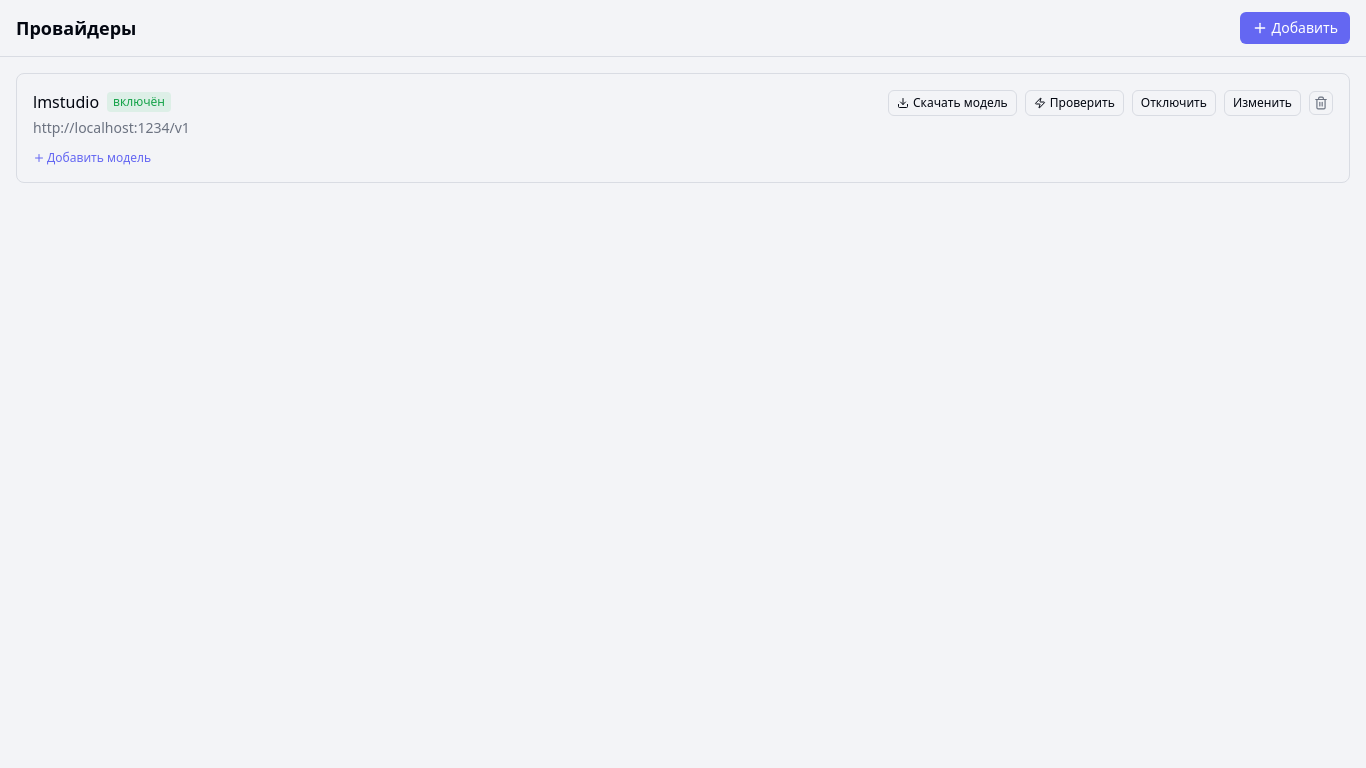
Test: ProvidersPage: скачивание моделей (T-437, часть А) › terminal start response (already_downloaded) renders without polling
Click the button "Скачать модель": click(952, 103) [888,90,1017,116]
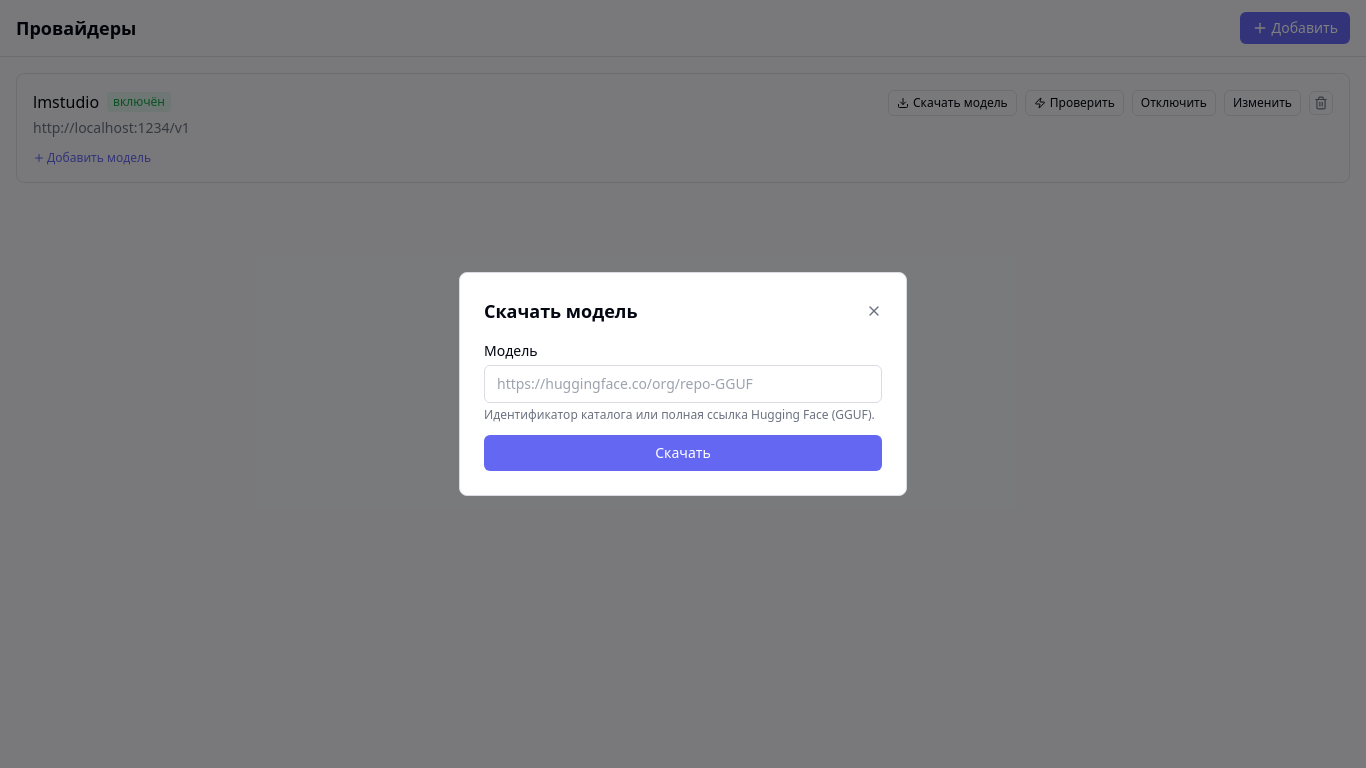
In the field with placeholder "https://huggingface.co/org/repo-GGUF": (683, 384) [484,365,882,403], type "some/model"
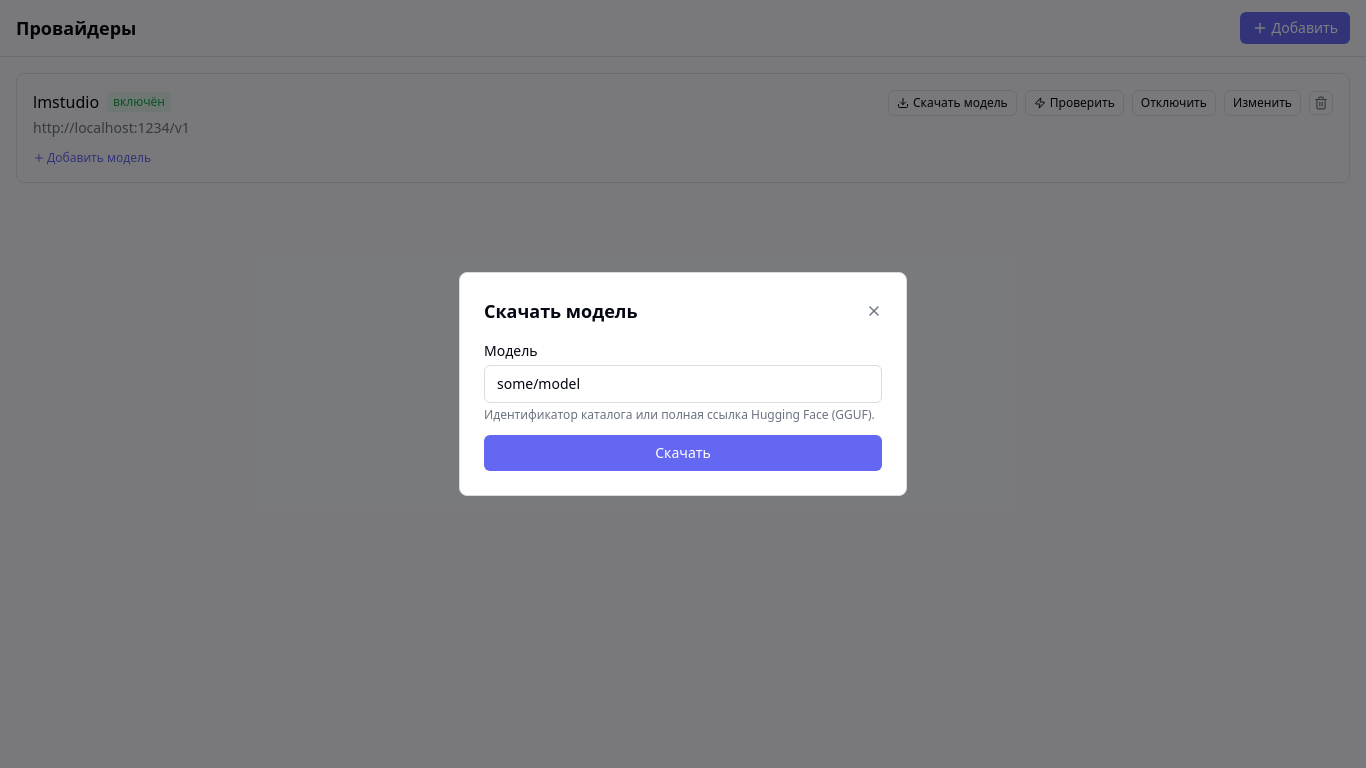
Click the button "Скачать": click(683, 453) [484,435,882,471]
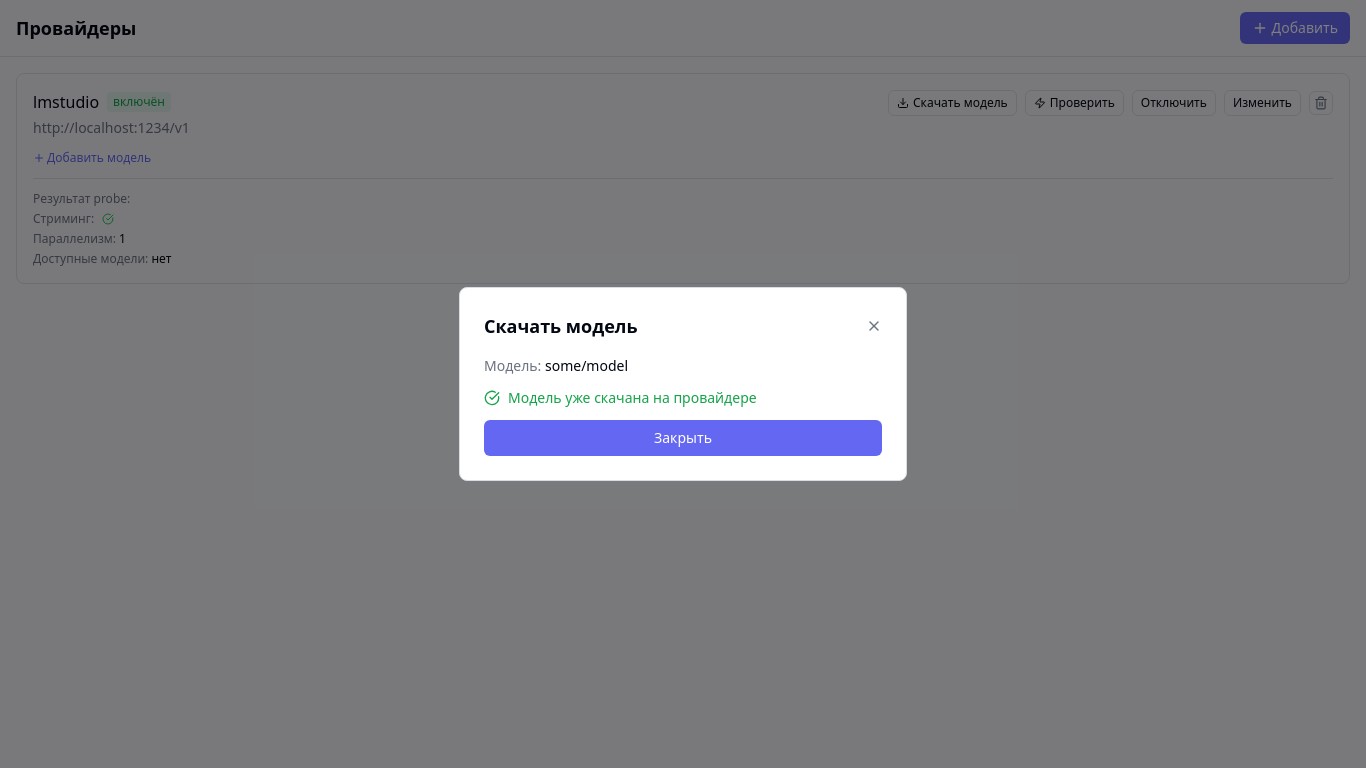
Result: the text "Модель уже скачана на провайдере" is shown at [484,388,757,407]
